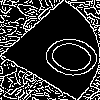O: (25, 25, 100, 84)
